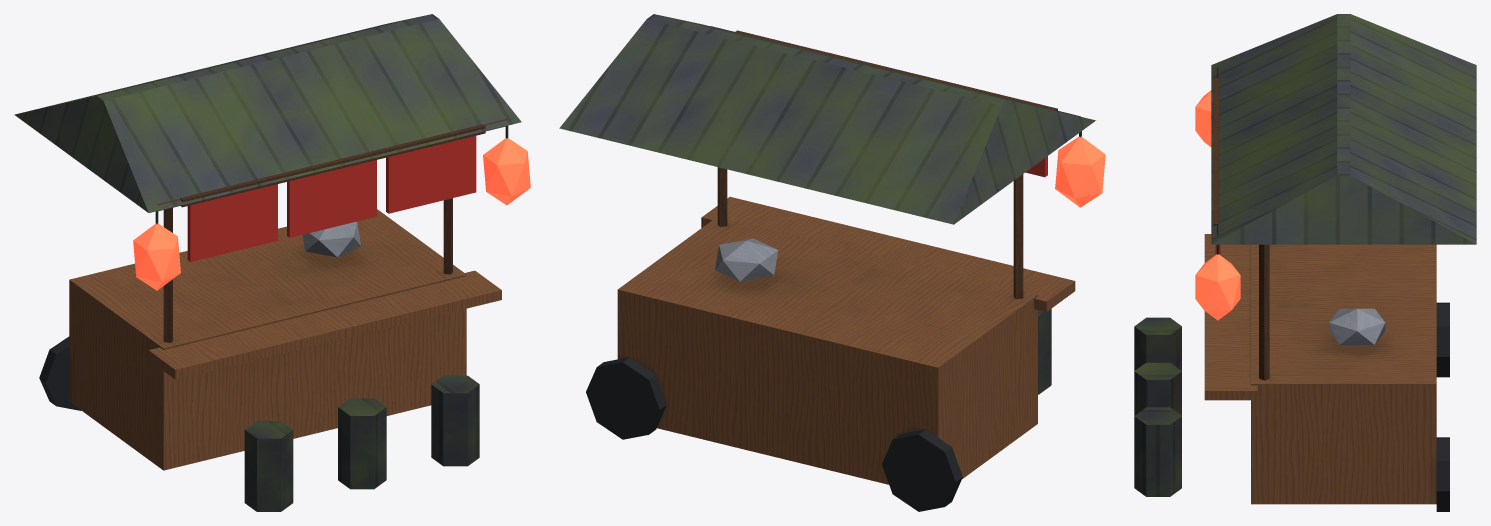
The model's file is yatai_tex.glb.
3 views of the same model, side by side, from view 1: azimuth 30°, elevation 25°; view 2: azimuth 150°, elevation 25°; view 3: azimuth 270°, elevation 25° (orthographic). The views are drawn at different scales.
Parts seen in each view (by area): view 1: yatai; view 2: yatai; view 3: yatai.
Part boxes in pixels (<box>): yatai: <box>14,14,530,511</box>; yatai: <box>559,14,1105,511</box>; yatai: <box>1134,14,1476,511</box>.
Bounding box in the file's own units: 3.36 × 2.9 × 2.58.
Materials: 8 (5 with a texture image).
